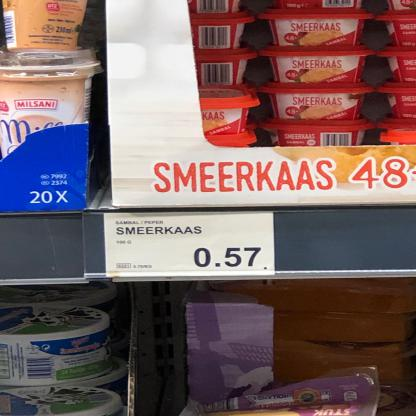prtg: (103, 213, 276, 278)
